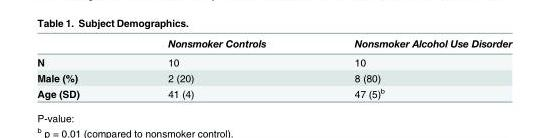table: (36, 36, 511, 99)
table column: (309, 36, 511, 99), (122, 36, 309, 99), (36, 36, 122, 99)
table column header: (36, 36, 511, 52)
table row: (36, 52, 511, 69), (36, 36, 511, 52), (36, 69, 511, 84), (36, 84, 511, 99)
